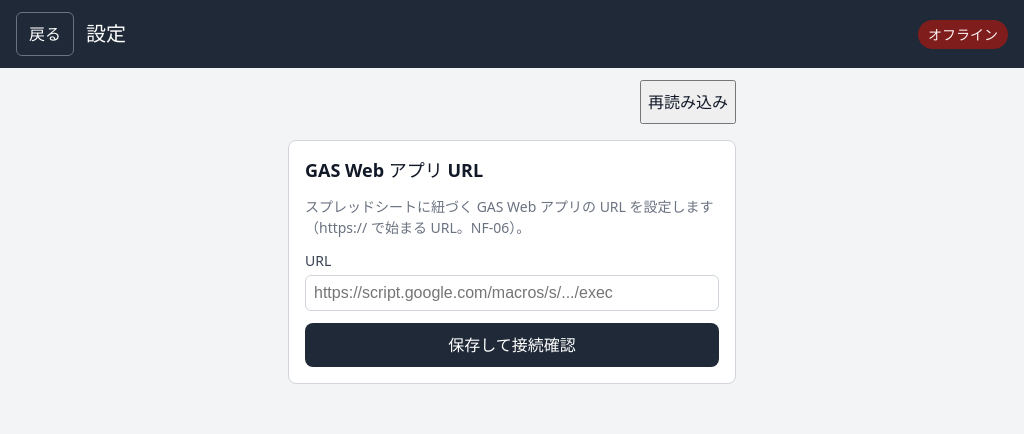
it: GAS URL未設定（初回セットアップの最初のステップ） › httpのURLはエラーになる（NF-06）
The width and height of the screenshot is (1024, 434).
Type "http://example.com/exec" into the field labelled "URL". click: (512, 293)
box: [305, 275, 719, 311]
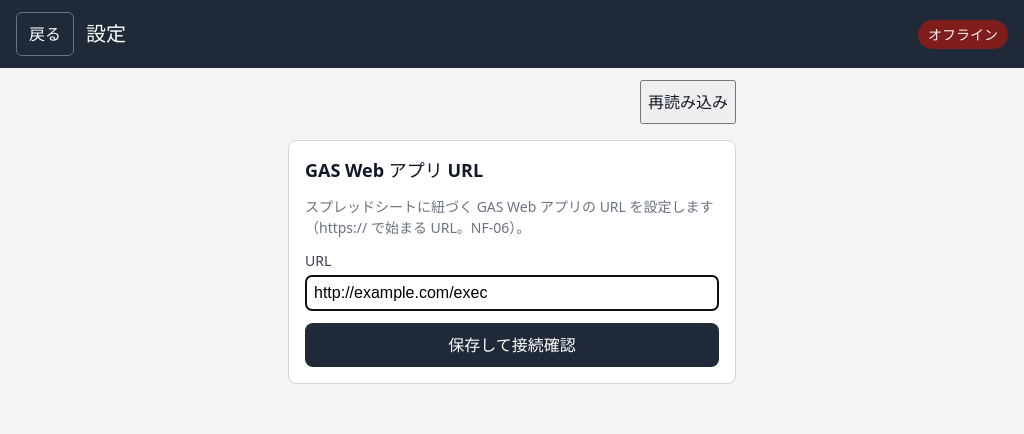
Click the button "保存して接続確認". click: (512, 345)
box: [305, 323, 719, 367]
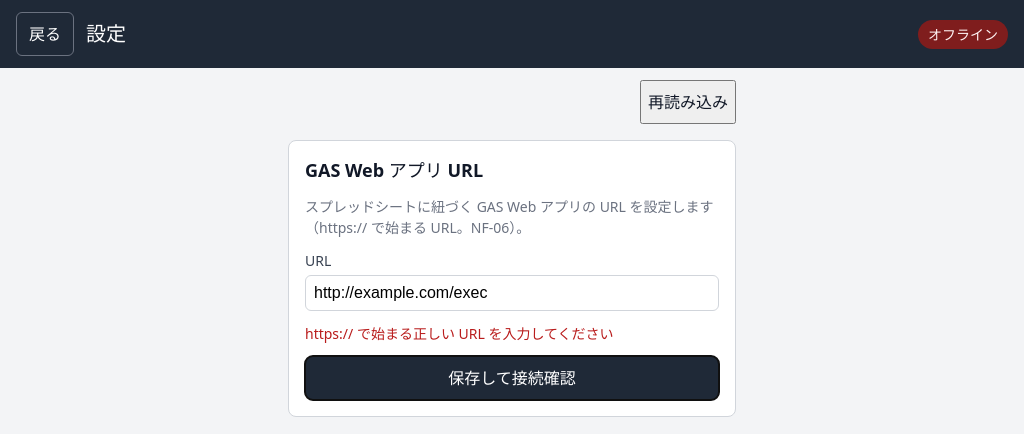
Check: the message shows "https://", box [305, 324, 614, 343]
